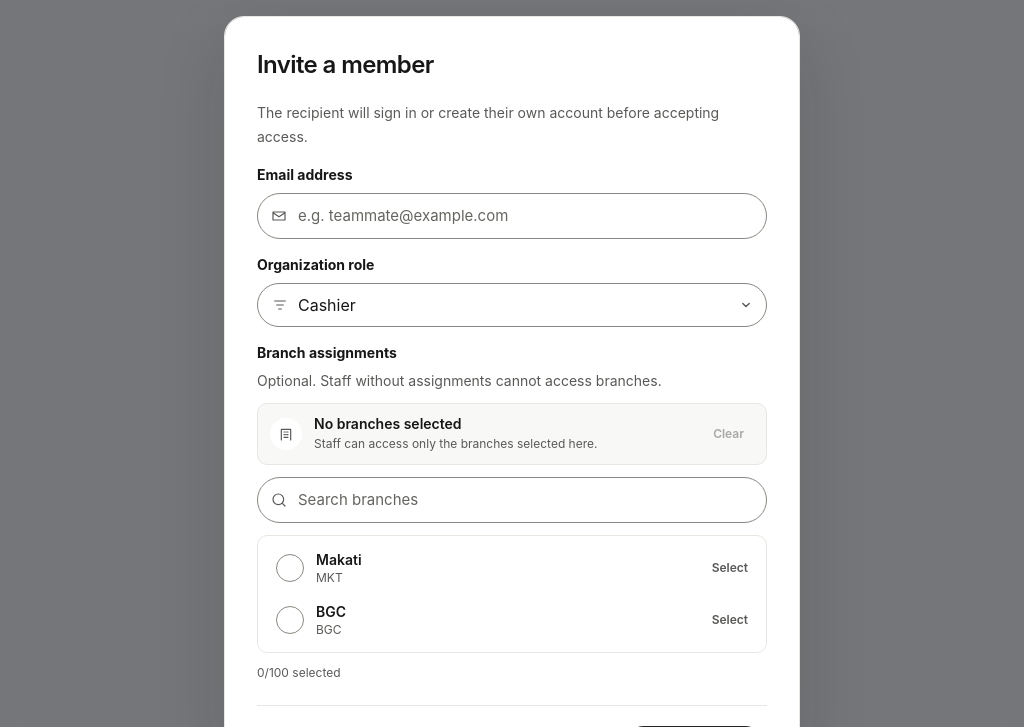
Test: uses a searchable custom branch picker for staff invitations
Click the button "Makati MKT Select" at [339, 560], box [264,542,760,594]
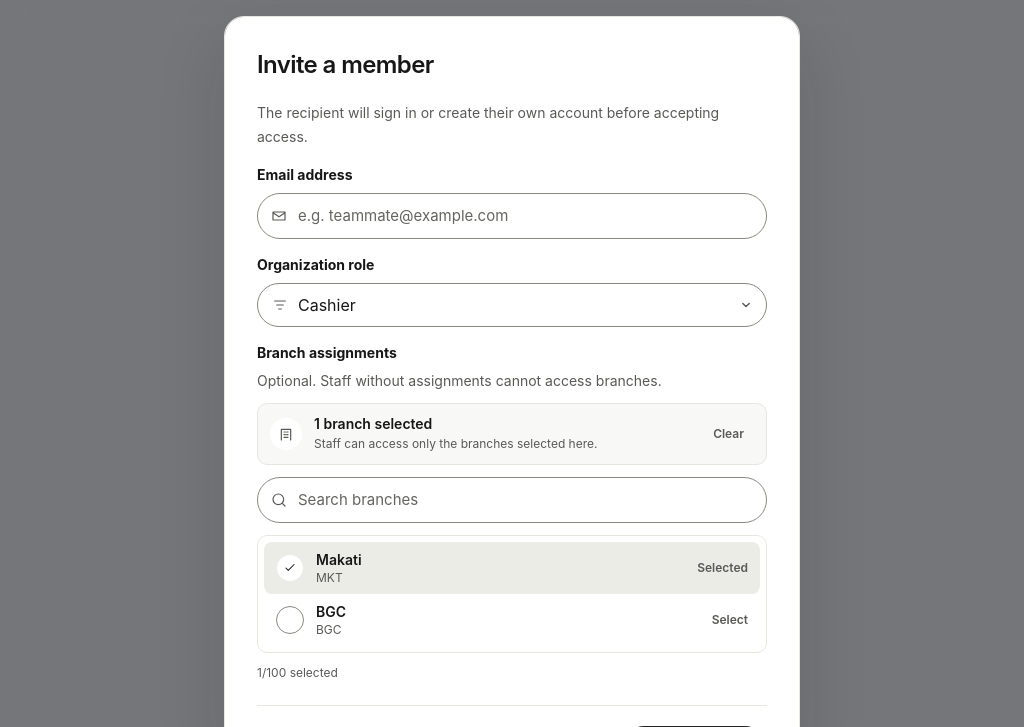
Result: the text "1/100 selected" is shown at [257,665,338,680]
Type "BGC" into the search field named "Filter branches" at [512, 500], box [257,477,767,523]
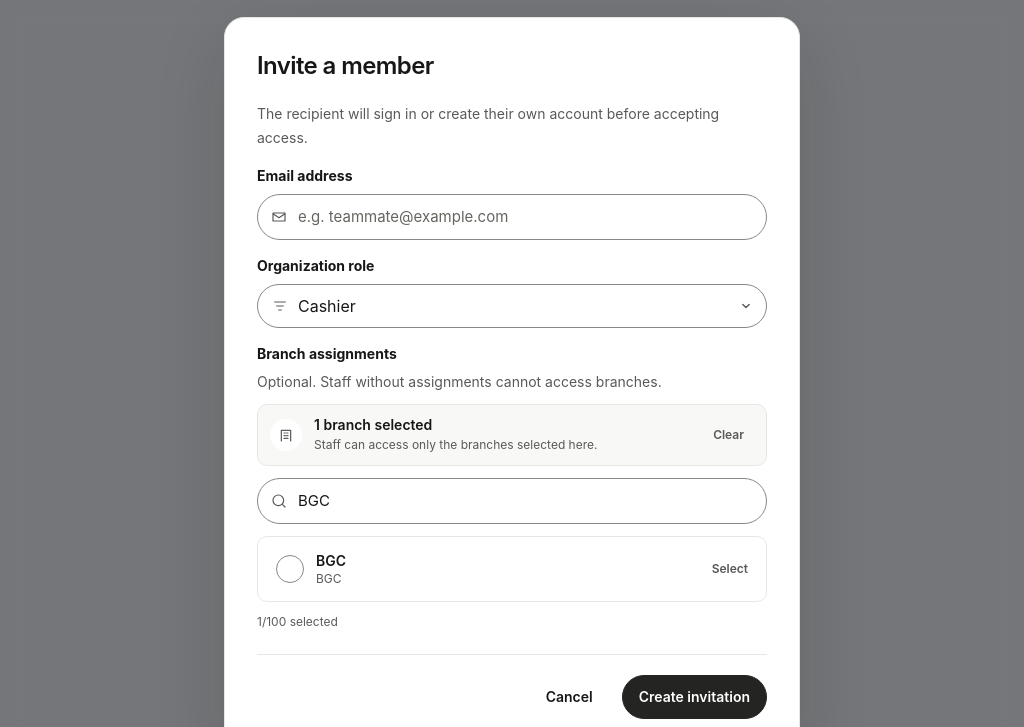
Expected: the button "BGC BGC Select" is shown, [264,542,760,594]
Result: the button "Makati" is gone
Click the button with aria-label "Clear branch selection" at [729, 434], box [703,420,754,448]
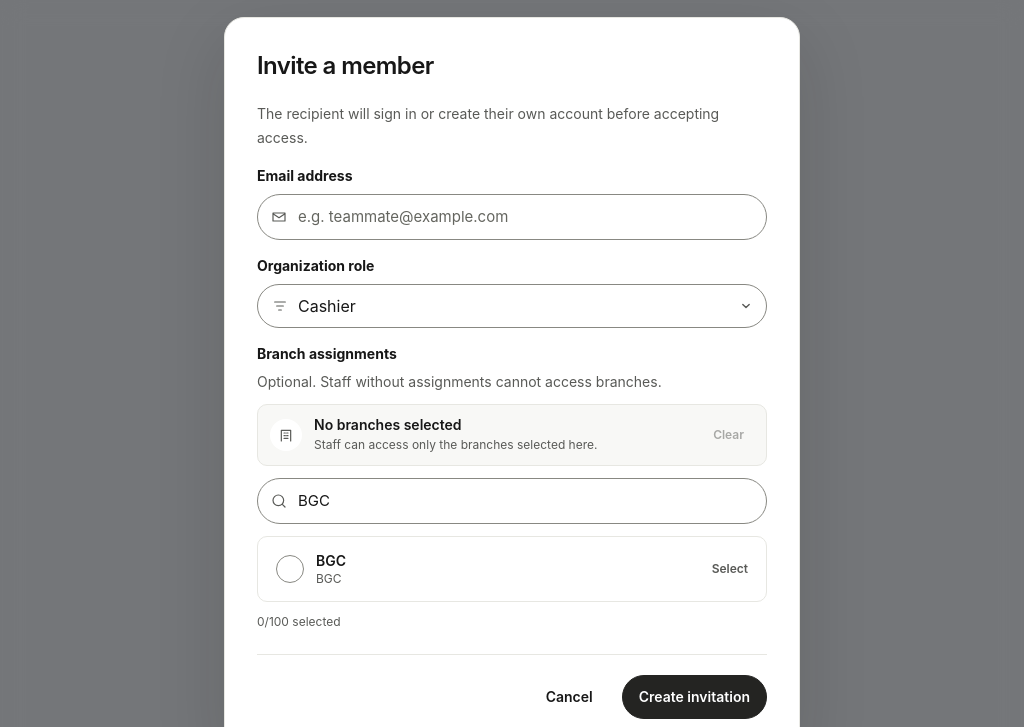
Result: the text "No branches selected" is shown at [314,416,462,432]
